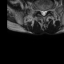CCS_normal: (42, 8, 44, 18)
LFS_stenosis: (46, 7, 48, 14)
LLS_normal: (44, 9, 46, 17)
RFS_stenosis: (38, 7, 40, 13)
RLS_normal: (40, 8, 42, 17)
